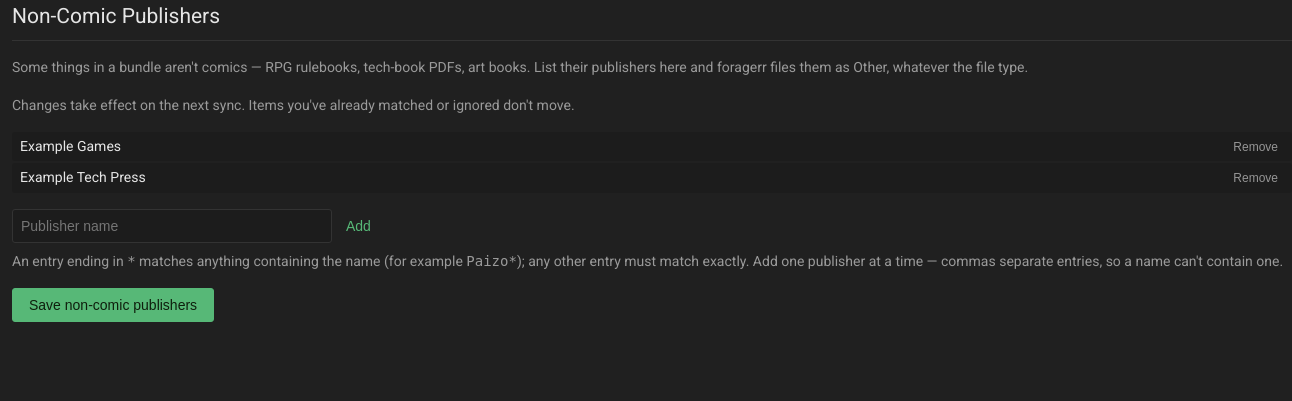
it: FRG-UI-046: Settings publisher-filtering panel › FRG-UI-046 — a comma in the draft is refused with a hint, not split into two entries
Expected: the list item with test id "non-comic-publisher-Example Games" is shown, [12,132,1291,161]
In the field with test id "non-comic-publishers-input": (172, 226) [12,209,332,243], type "Example Games, Inc"
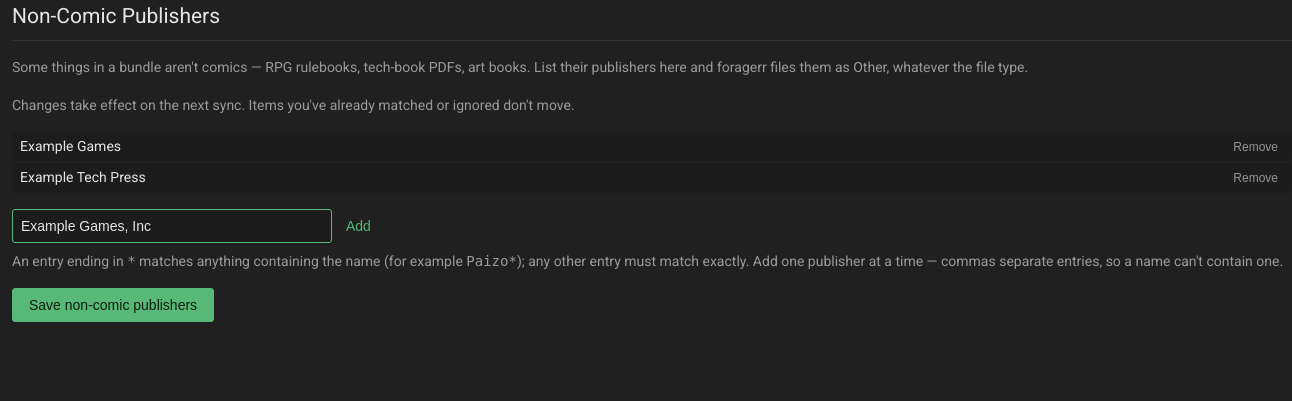
Click the button with test id "non-comic-publishers-add": (358, 226) [340,217,377,235]
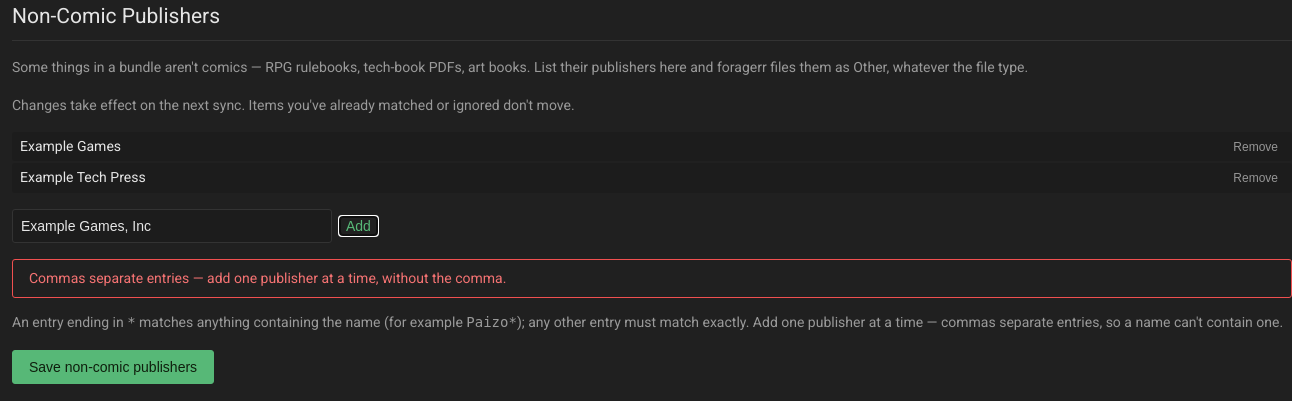
Expected: the message with test id "non-comic-publishers-hint" shows "Commas separate entries", [29,270,506,286]
